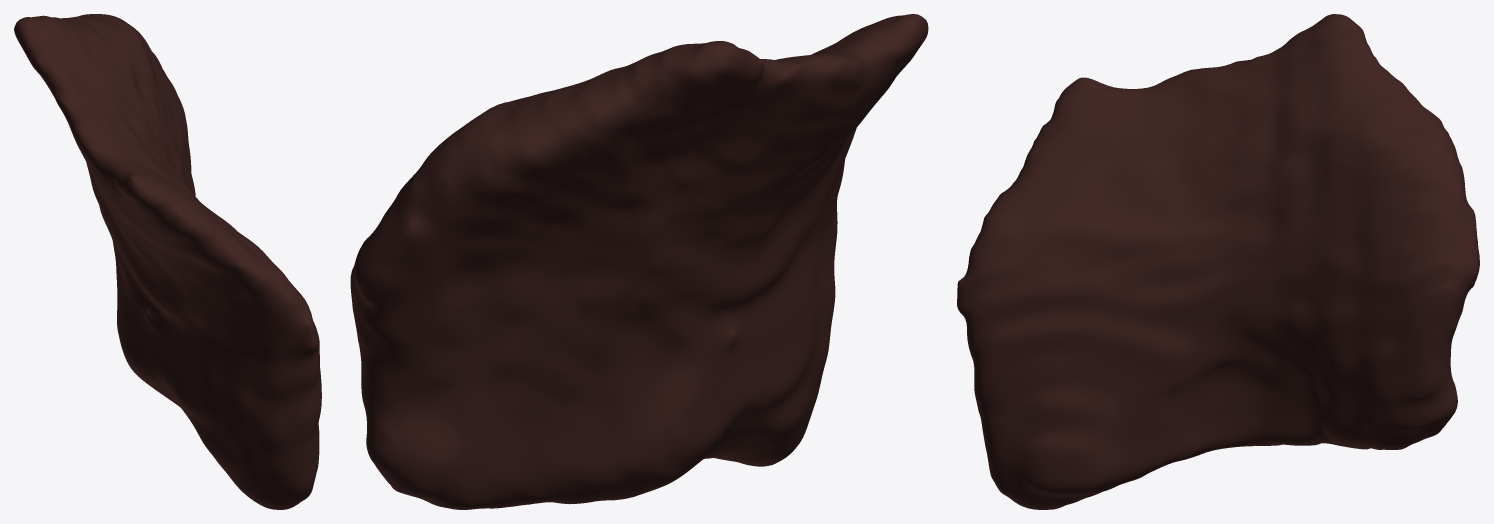
The model's file is left gluteus minimus.obj.
3 renders of one model, left to right at view 1: azimuth 30°, elevation 25°; view 2: azimuth 150°, elevation 25°; view 3: azimuth 270°, elevation 25°, orthographic. The views are drawn at different scales.
Parts seen in each view (by area): view 1: grp1; view 2: grp1; view 3: grp1.
Part boxes in pixels (x1,y1,x2,y2): grp1: (14,14,321,509); grp1: (350,14,928,509); grp1: (957,14,1479,509).
Bounding box in the file's own units: 46.99 × 84.35 × 92.02.
